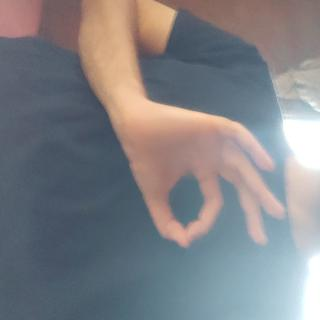Space: (71, 45, 190, 257)
